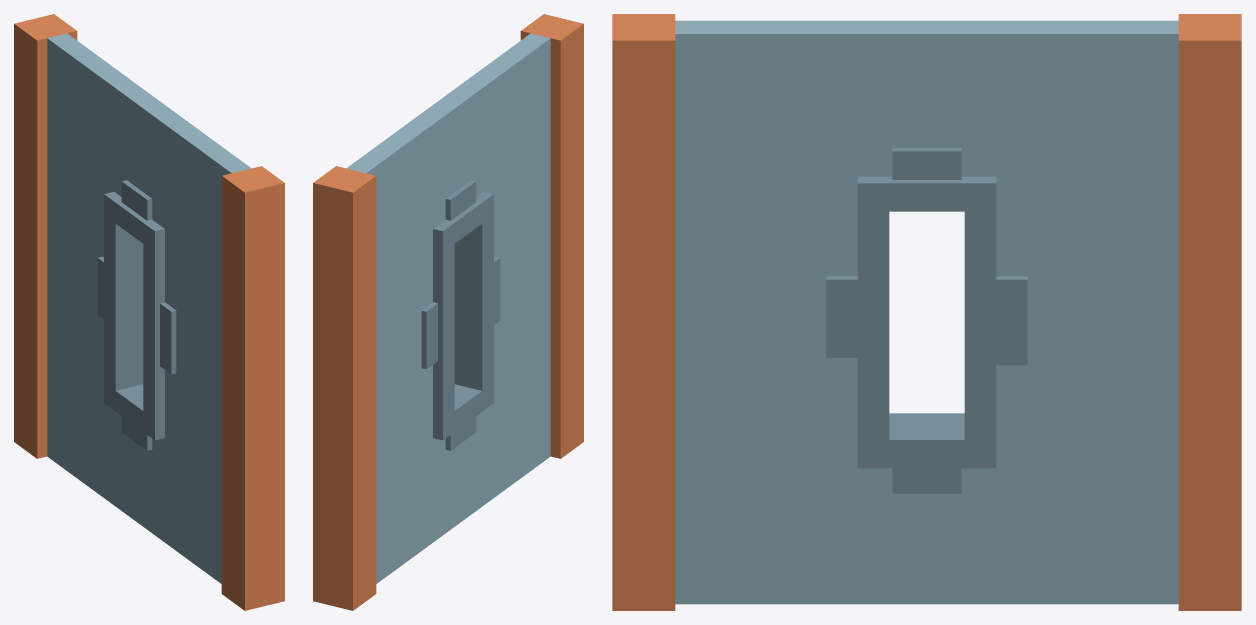
The model's file is wallWindowStone.dae.
3 views of the same model, side by side, from view 1: azimuth 30°, elevation 25°; view 2: azimuth 150°, elevation 25°; view 3: azimuth 270°, elevation 25° (orthographic). The views are drawn at different scales.
Parts seen in each view (by area): view 1: wallWindowStone; view 2: wallWindowStone; view 3: wallWindowStone.
Boxes of the visible parts, x1,y1,x2,y2 form: wallWindowStone: (14,14,284,610); wallWindowStone: (313,14,583,610); wallWindowStone: (612,14,1241,610).
Bounding box in the file's own units: 0.1 × 1 × 1.
